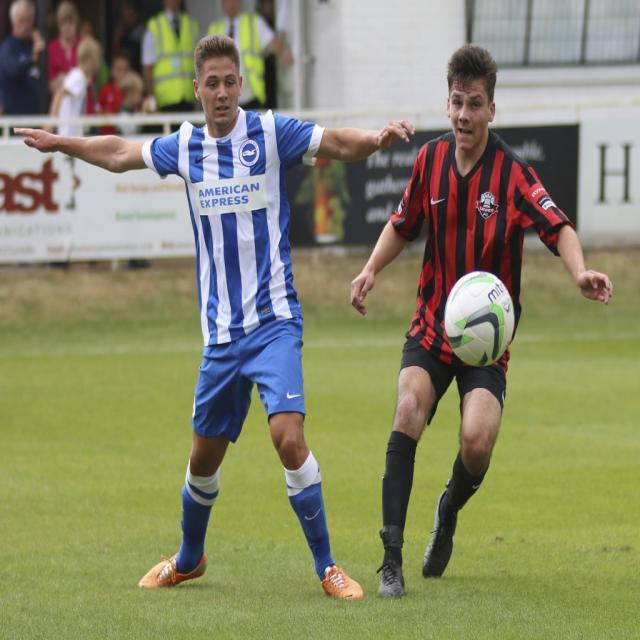football: (435, 270, 526, 370)
